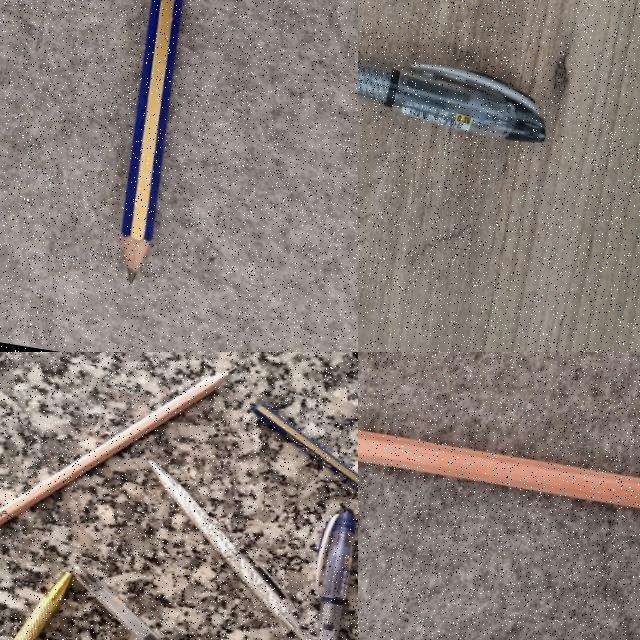pen: (49, 564, 276, 640), (358, 62, 545, 142), (292, 506, 358, 640), (254, 405, 358, 490)
pencil: (0, 372, 230, 525), (358, 431, 639, 508), (122, 0, 183, 281), (254, 404, 358, 490)
signature pen: (150, 461, 309, 640), (0, 557, 72, 640)
